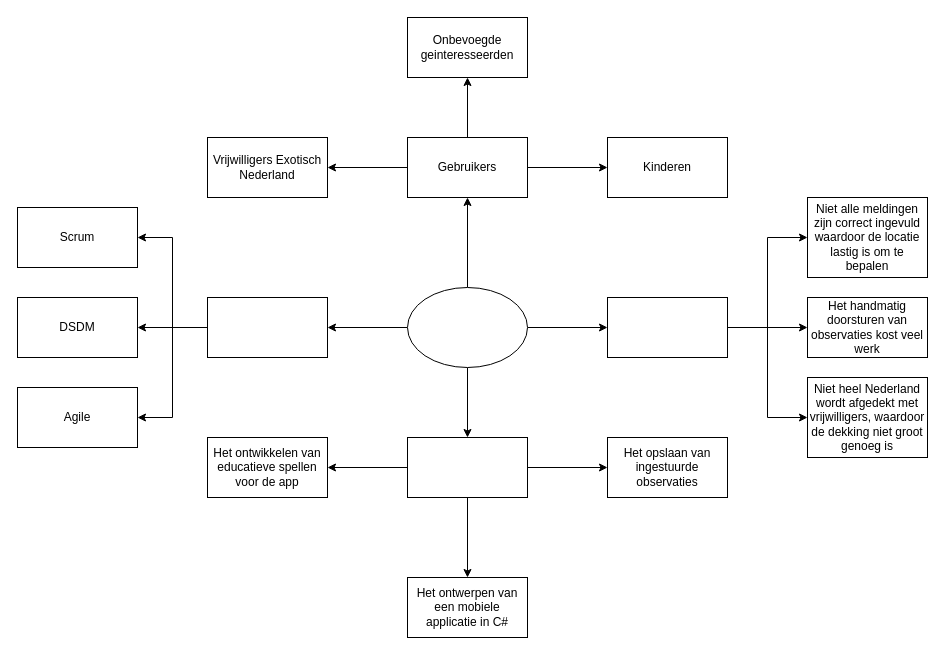
Some shapes in this 945 by 655 pixel diagram are drawn without their labels. The centre of each missing label's shape, as x and y in pixels:
"Belemmeringen om op te lossen" goes at point (667, 327).
"Mobiele applicatie voor het documenteren van dieren in het wild" goes at point (467, 327).
"Onduidelijkheden" goes at point (467, 467).
"Planning" goes at point (267, 327).
